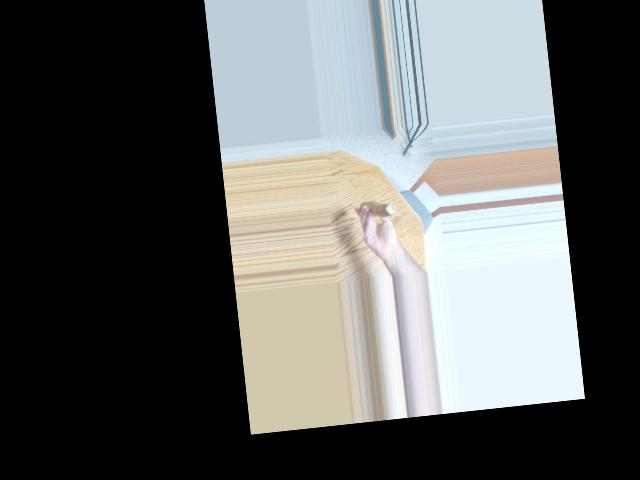sweet_potato: (357, 196, 402, 229)
